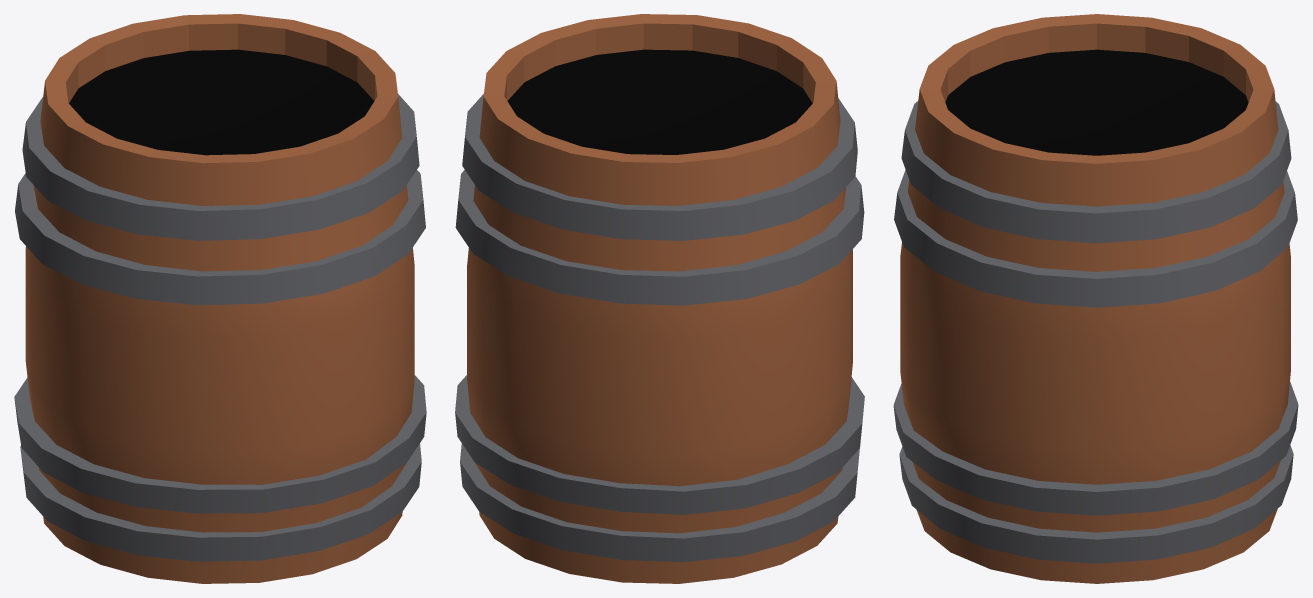
The model's file is model_barrel1.fbx.
The picture shows the model from 3 angles, left to right: view 1: azimuth 30°, elevation 25°; view 2: azimuth 150°, elevation 25°; view 3: azimuth 270°, elevation 25°; orthographic projection.
Parts seen in each view (by area): view 1: pCylinder1; view 2: pCylinder1; view 3: pCylinder1.
Part boxes in pixels (<box>): pCylinder1: <box>14,14,426,583</box>; pCylinder1: <box>455,14,864,583</box>; pCylinder1: <box>893,14,1298,583</box>.
Bounding box in the file's own units: 2.55 × 2.83 × 2.48.
